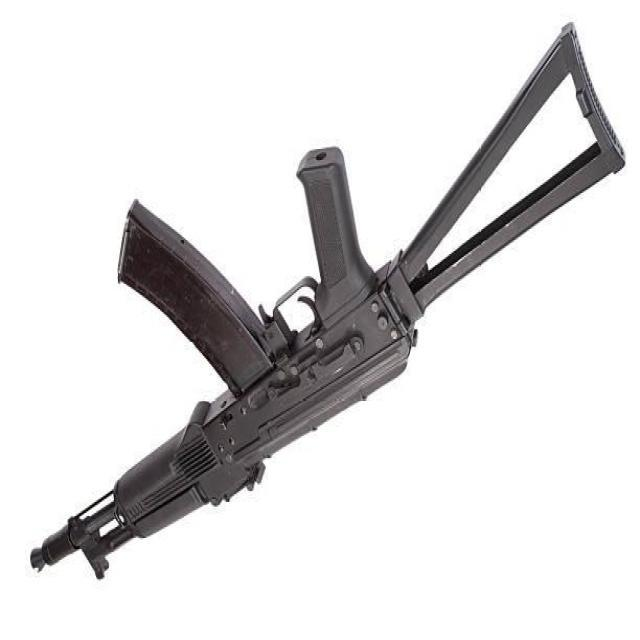weapon: (29, 21, 626, 584)
